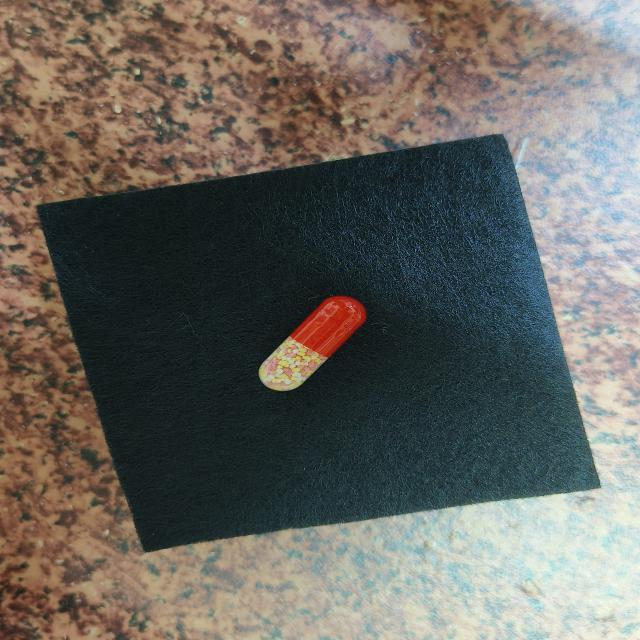Intact Capsule: (258, 295, 367, 391)
